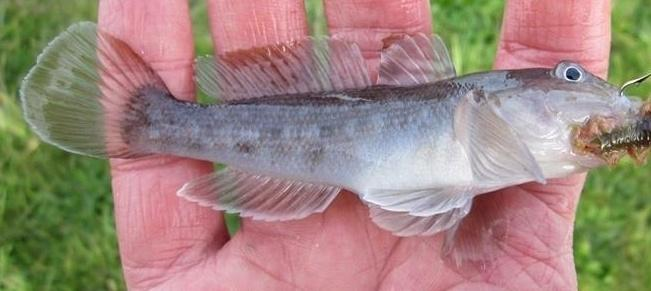Goby: (13, 45, 651, 245)
